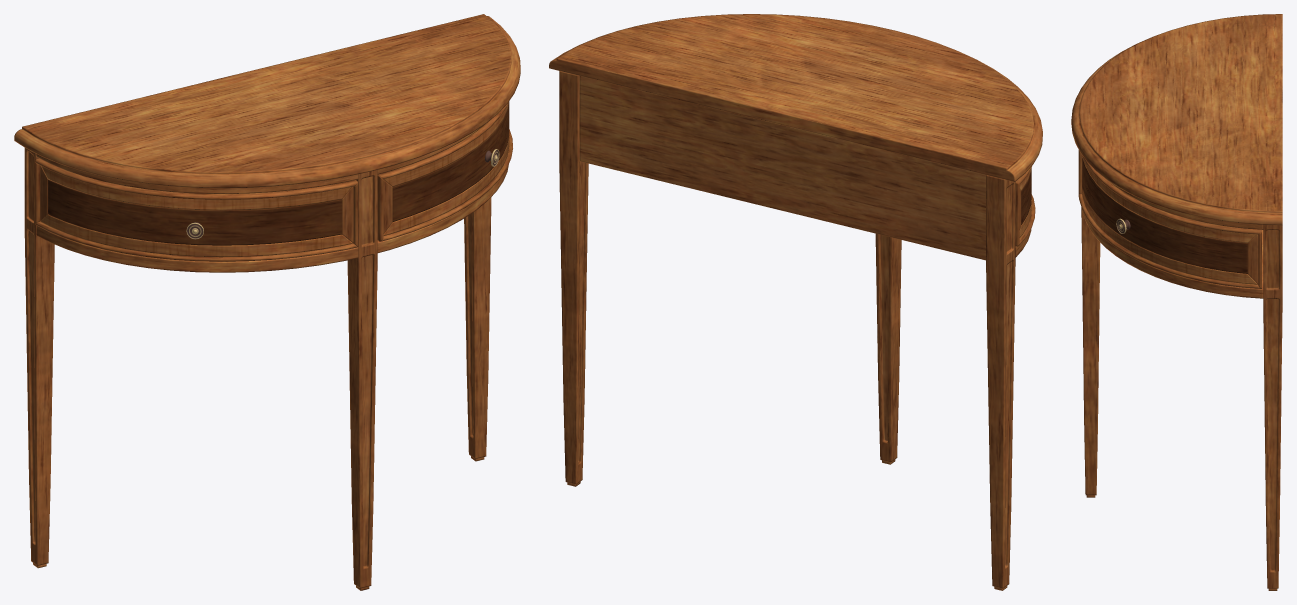
The model's file is тумбочка.glb.
3 renders of one model, left to right at view 1: azimuth 30°, elevation 25°; view 2: azimuth 150°, elevation 25°; view 3: azimuth 270°, elevation 25°, orthographic. The views are drawn at different scales.
Parts seen in each view (by area): view 1: Table, DrawerA, DrawerB; view 2: Table, DrawerA; view 3: Table, DrawerB.
Boxes of the visible parts, <box> form: Table: <box>14,14,520,590</box>; DrawerA: <box>35,158,357,261</box>; DrawerB: <box>377,101,512,241</box>; Table: <box>549,14,1042,590</box>; DrawerA: <box>1015,166,1035,246</box>; Table: <box>1071,14,1282,590</box>; DrawerB: <box>1078,150,1261,288</box>.
Size of the model in its own units: 0.8685 by 0.76 by 0.38.
1 material, 1 textured.
